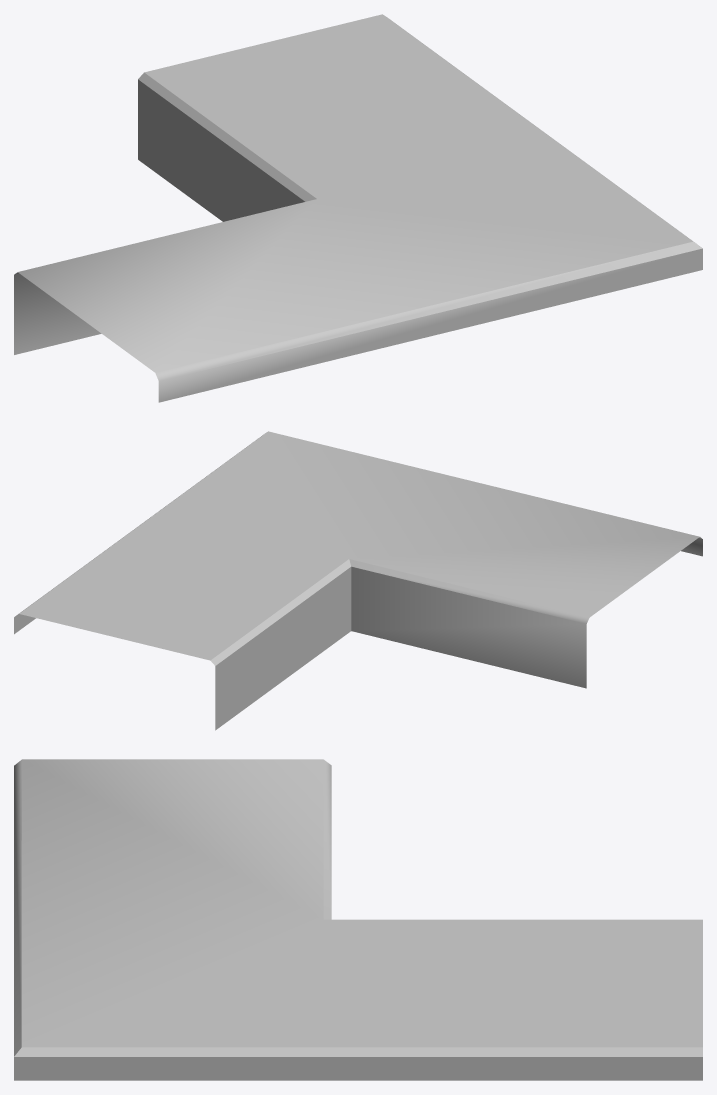
The model's file is L Inside.FBX.
The picture shows the model from 3 angles, top to bottom: view 1: azimuth 30°, elevation 25°; view 2: azimuth 150°, elevation 25°; view 3: azimuth 270°, elevation 25°; orthographic projection. The views are drawn at different scales.
Visible parts, largest first — view 1: Curb_Inner001; view 2: Curb_Inner001; view 3: Curb_Inner001.
Boxes of the visible parts, x1,y1,x2,y2 form: Curb_Inner001: (14,14,702,402); Curb_Inner001: (14,431,702,730); Curb_Inner001: (14,759,702,1080).
Size of the model in its own units: 70 by 10.54 by 70.
Materials: 2 (2 with a texture image).
